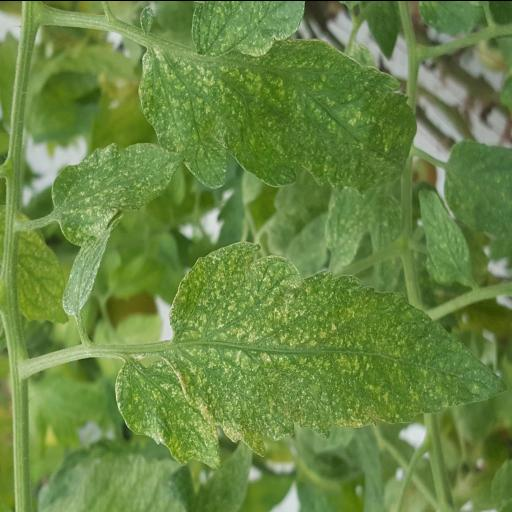disease_tomato: (162, 242, 492, 452), (128, 52, 402, 208), (46, 154, 174, 256), (108, 361, 212, 471)
